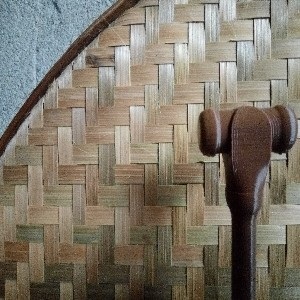palu: (196, 104, 298, 298)
